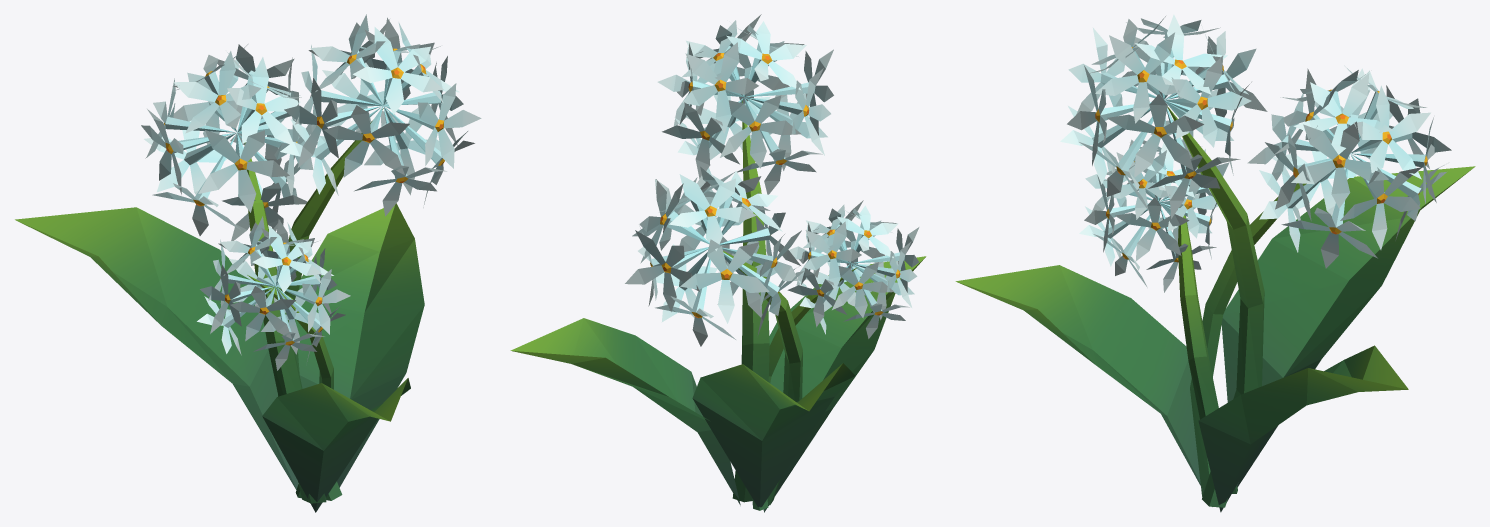
File: blanco-1.glb
The picture shows the model from 3 angles, left to right: view 1: azimuth 30°, elevation 25°; view 2: azimuth 150°, elevation 25°; view 3: azimuth 270°, elevation 25°; orthographic projection. The views are drawn at different scales.
Visible parts, largest first — view 1: Flower.030; view 2: Flower.030; view 3: Flower.030.
Part boxes in pixels (x1,y1,x2,y2): Flower.030: (15,14,481,512); Flower.030: (510,14,926,512); Flower.030: (955,14,1475,512).
Size of the model in its own units: 1.92 by 2.58 by 2.38.
Materials: 1 (1 with a texture image).
